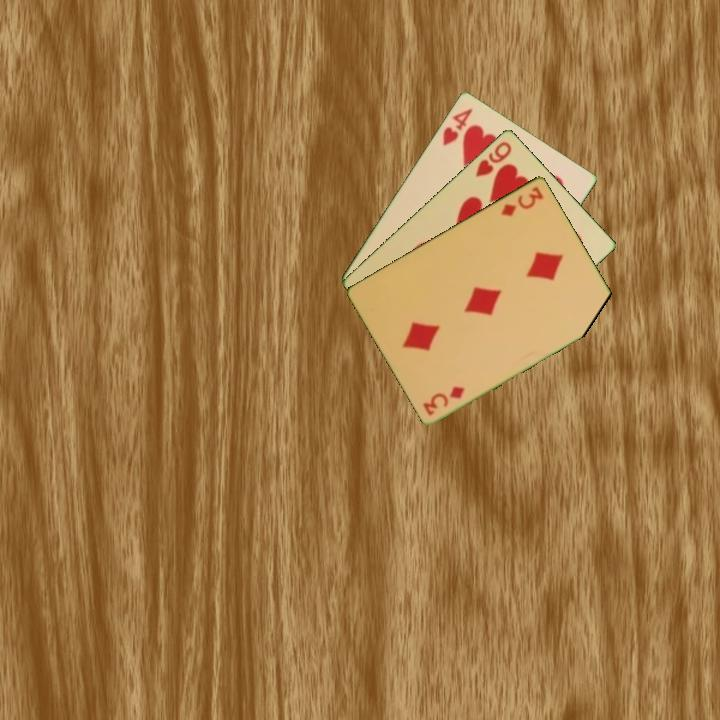3d: (497, 183, 547, 219), (419, 382, 468, 418)
4h: (439, 104, 476, 148)
9h: (472, 138, 515, 179)
